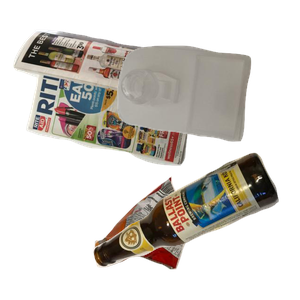glass: (91, 150, 300, 300)
paper: (11, 27, 213, 185)
plastic: (115, 43, 300, 177)
trash: (92, 174, 272, 300)
